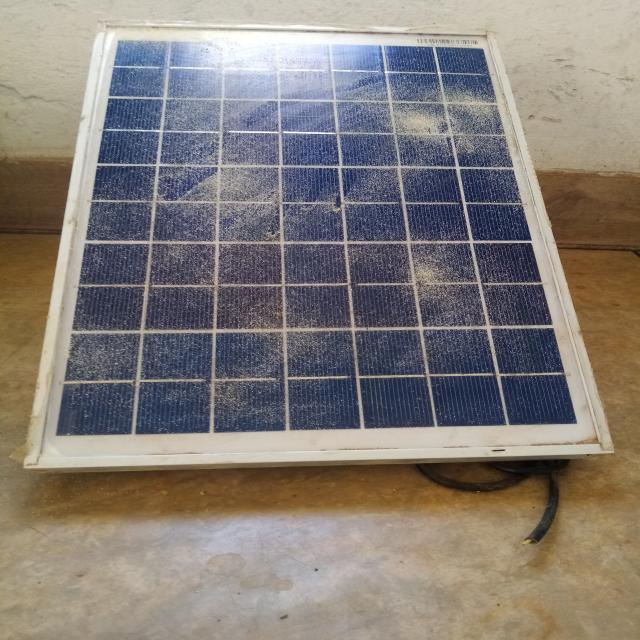faulty: (25, 22, 615, 465)
